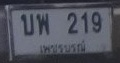txt21: (20, 13, 34, 36)
txt25: (35, 13, 50, 37)
